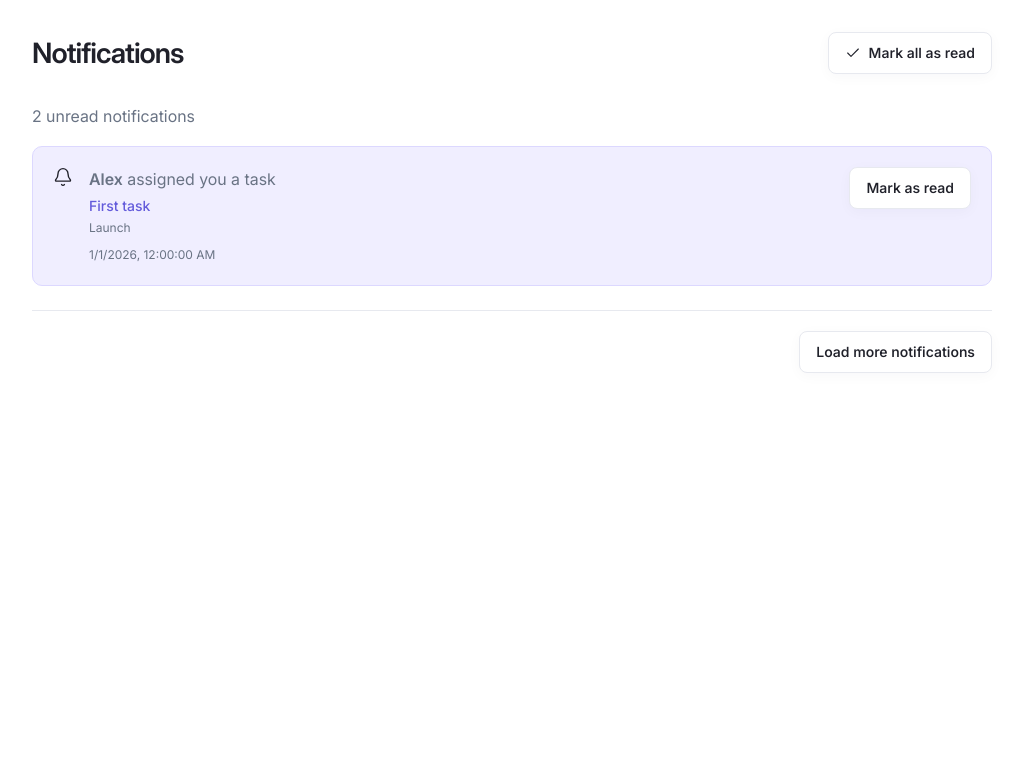
Test: keeps the first page visible and retries the failed cursor when loading more notifications
Click the button "Load more notifications" at coordinates (896, 352), box [799, 330, 992, 373]
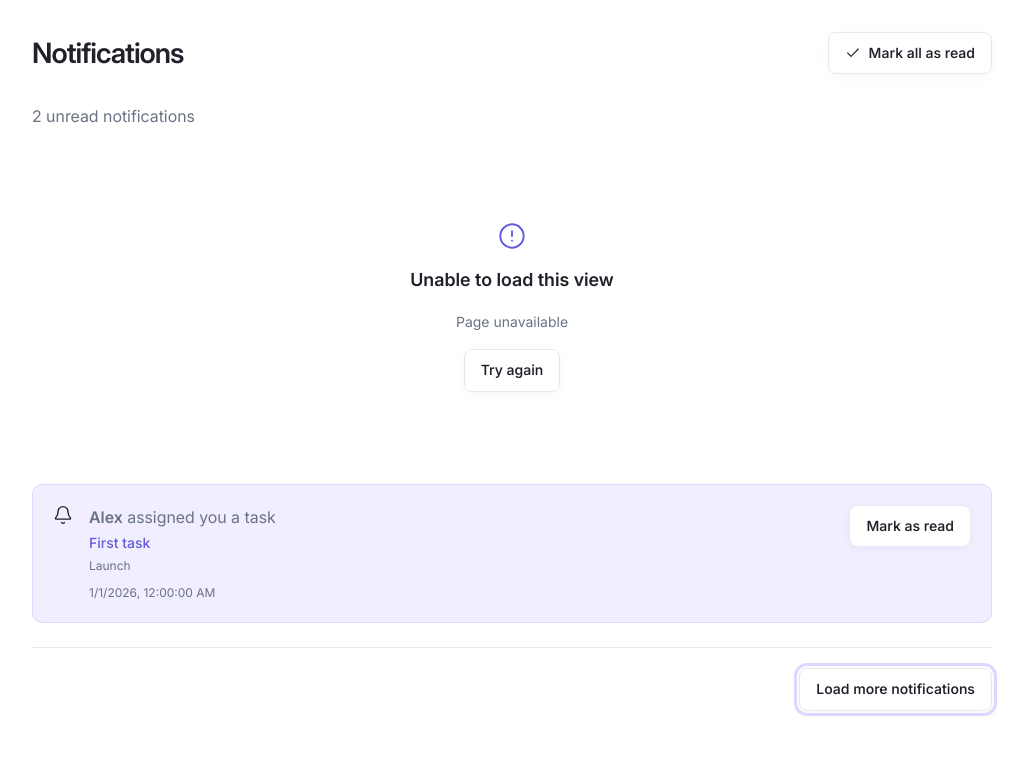
Expected: the link "First task" is shown, [89, 534, 150, 551]
Expected: the text "Page unavailable" is shown, [456, 311, 568, 333]
Click the button "Try again" at coordinates (512, 370), box [464, 349, 560, 392]
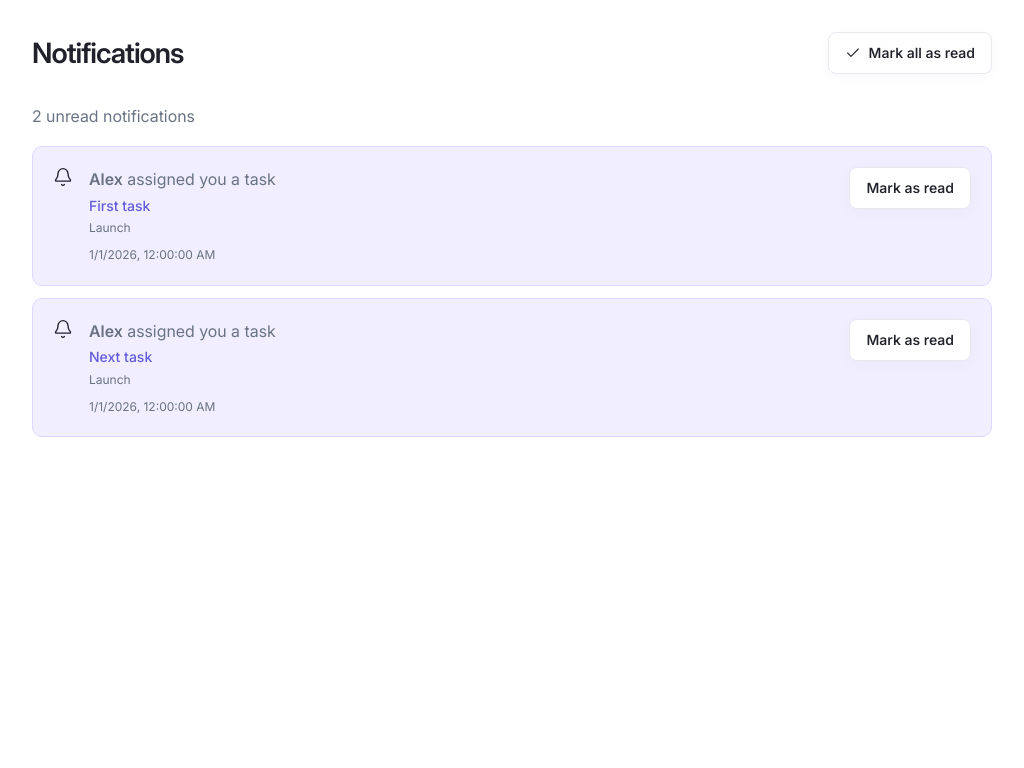
Expected: the link "Next task" is shown, [89, 348, 152, 365]
Expected: the button "Load more notifications" is gone
